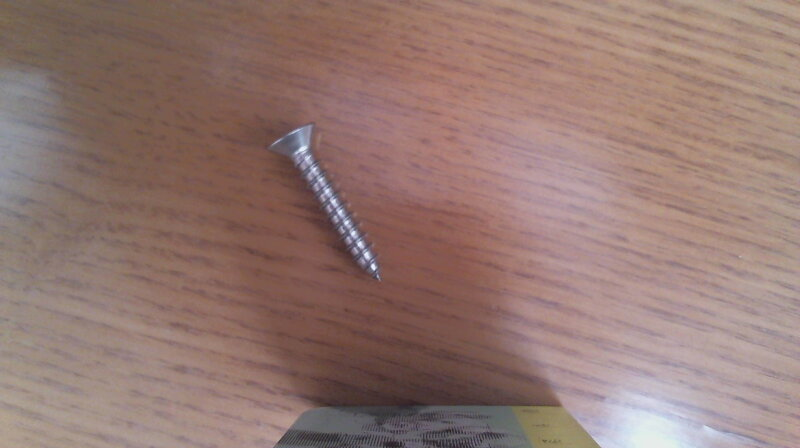S001: (264, 118, 388, 289)
